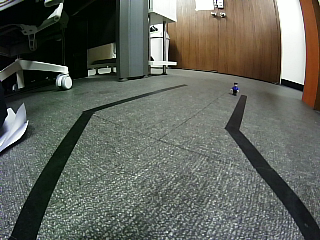person: (230, 82, 240, 96)
